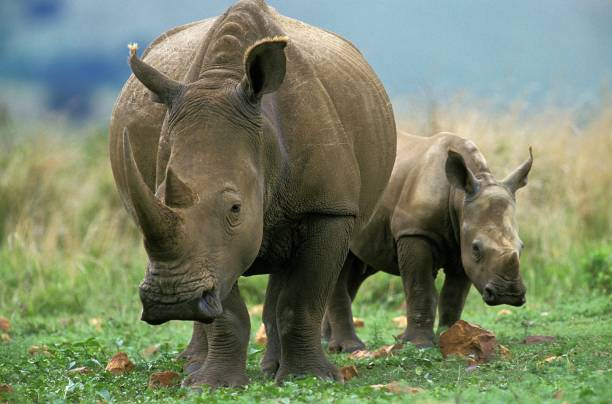rhino: (88, 31, 330, 331)
